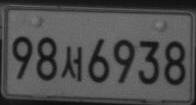3: (137, 40, 160, 84)
6: (87, 38, 110, 83)
8: (162, 40, 186, 86), (35, 36, 58, 80)
9: (112, 38, 136, 83), (10, 35, 33, 80)
서: (61, 45, 83, 81)
